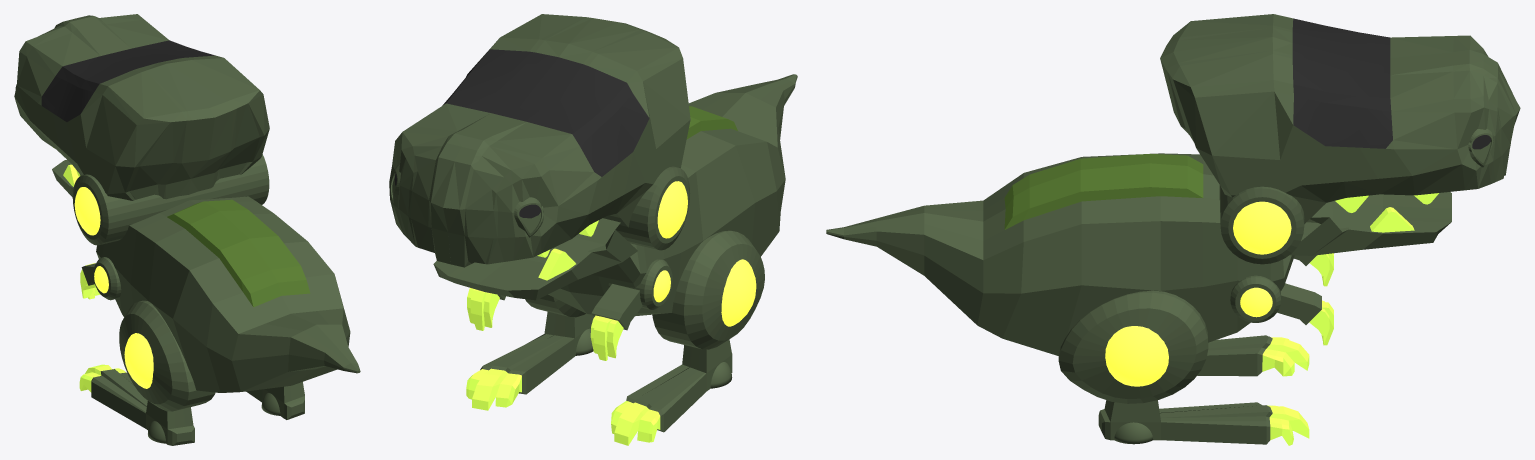
File: TRexFBX.fbx
3 views of the same model, side by side, from view 1: azimuth 30°, elevation 25°; view 2: azimuth 150°, elevation 25°; view 3: azimuth 270°, elevation 25° (orthographic). The views are drawn at different scales.
Parts seen in each view (by area): view 1: Cube.006, Cube, Cube.007, Cube.003, Cube.019, Cube.013, Cube.004, Cube.008, Cube.010, Cube.018, Cube.016; view 2: Cube.006, Cube, Cube.003, Cube.016, Cube.019, Cube.004, Cube.007, Cube.015, Cube.013, Cube.018, Cube.023, Cube.008 (+9 smaller); view 3: Cube.006, Cube, Cube.001, Cube.016, Cube.004, Cube.002, Cube.007, Cube.008, Cube.019, Cube.018, Cube.005, Cube.010 (+4 smaller).
Part boxes in pixels (<box>): Cube.006: <box>14,14,269,200</box>; Cube: <box>96,196,360,392</box>; Cube.007: <box>72,154,269,245</box>; Cube.003: <box>119,300,215,411</box>; Cube.019: <box>91,369,194,445</box>; Cube.013: <box>124,333,153,388</box>; Cube.004: <box>246,382,304,419</box>; Cube.008: <box>74,187,100,235</box>; Cube.010: <box>93,257,121,300</box>; Cube.018: <box>79,364,125,392</box>; Cube.016: <box>52,160,73,197</box>; Cube.006: <box>389,14,690,267</box>; Cube: <box>548,74,797,316</box>; Cube.003: <box>652,230,764,349</box>; Cube.016: <box>433,218,637,300</box>; Cube.019: <box>626,339,732,432</box>; Cube.004: <box>480,312,594,394</box>; Cube.007: <box>603,166,690,250</box>; Cube.015: <box>466,368,521,410</box>; Cube.013: <box>721,259,756,326</box>; Cube.018: <box>611,401,660,445</box>; Cube.023: <box>591,284,642,330</box>; Cube.008: <box>657,181,687,238</box>; Cube.006: <box>1160,14,1520,223</box>; Cube: <box>826,153,1294,355</box>; Cube.001: <box>1058,290,1208,403</box>; Cube.016: <box>1289,192,1451,255</box>; Cube.004: <box>1098,400,1272,444</box>; Cube.002: <box>1105,326,1168,386</box>; Cube.007: <box>1219,185,1304,264</box>; Cube.008: <box>1233,201,1291,254</box>; Cube.019: <box>1197,335,1272,376</box>; Cube.018: <box>1262,337,1309,376</box>; Cube.005: <box>1277,283,1321,324</box>; Cube.010: <box>1230,275,1281,322</box>.
Bounding box in the file's own units: 4.95 × 7.76 × 13.39.
